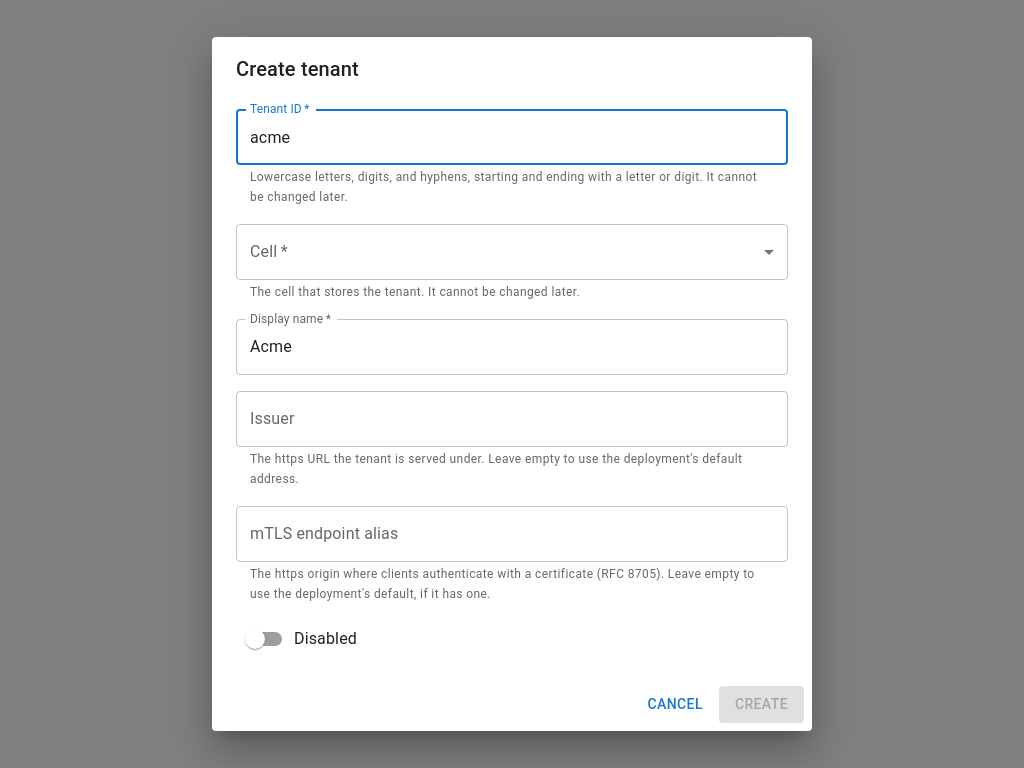
Test case: TenantFormDialog › blocks submit until a cell is chosen
Expected: the button with test id "tenant-form-submit" is disabled, 719,686 -> 804,723
Replace the text in the field with test id "tenant-cell" with "eu-1" at (512, 252), box 236,224 -> 788,280
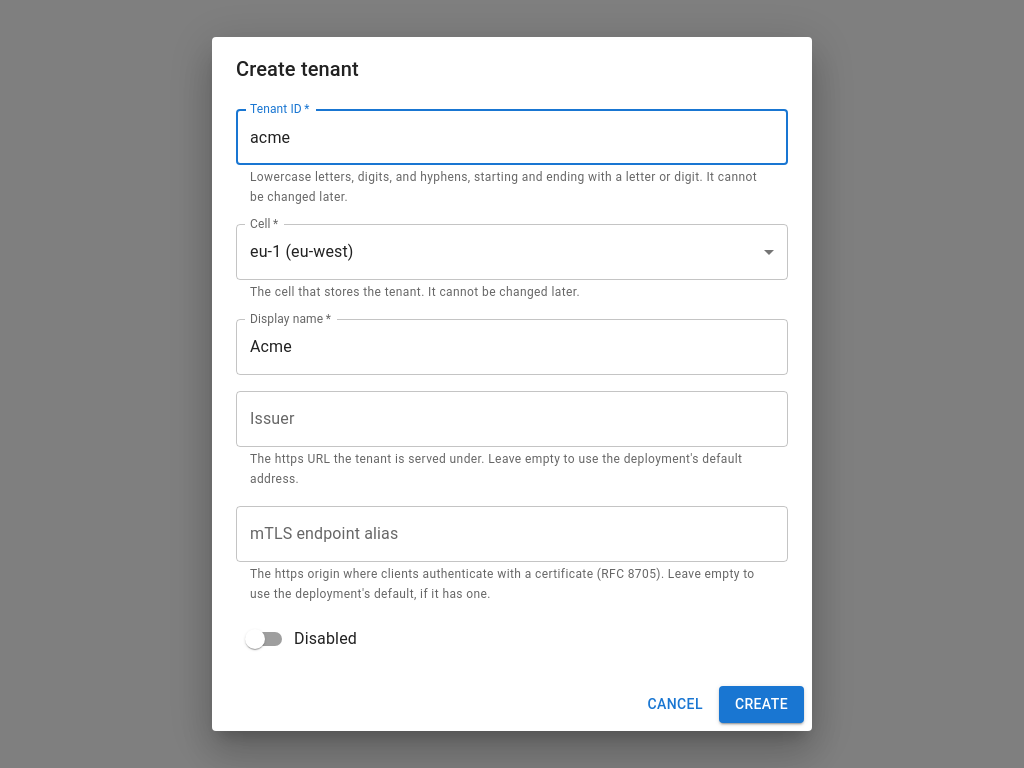
Expected: the button with test id "tenant-form-submit" is enabled, 719,686 -> 804,723
